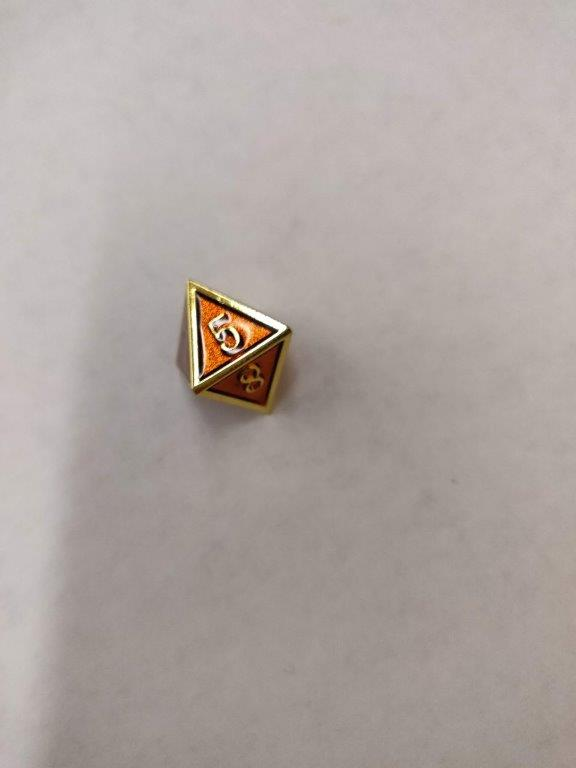d8-5: (173, 278, 297, 417)
